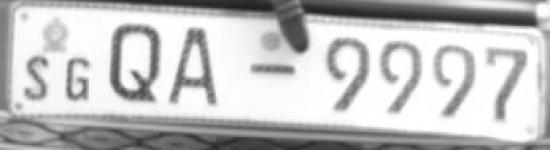-: (248, 59, 298, 80)
7: (478, 42, 533, 126)
9: (319, 32, 375, 117), (427, 38, 478, 128), (376, 33, 425, 119)
A: (165, 23, 224, 110)
G: (63, 54, 96, 103)
Q: (106, 19, 163, 107)
S: (22, 52, 52, 102)
